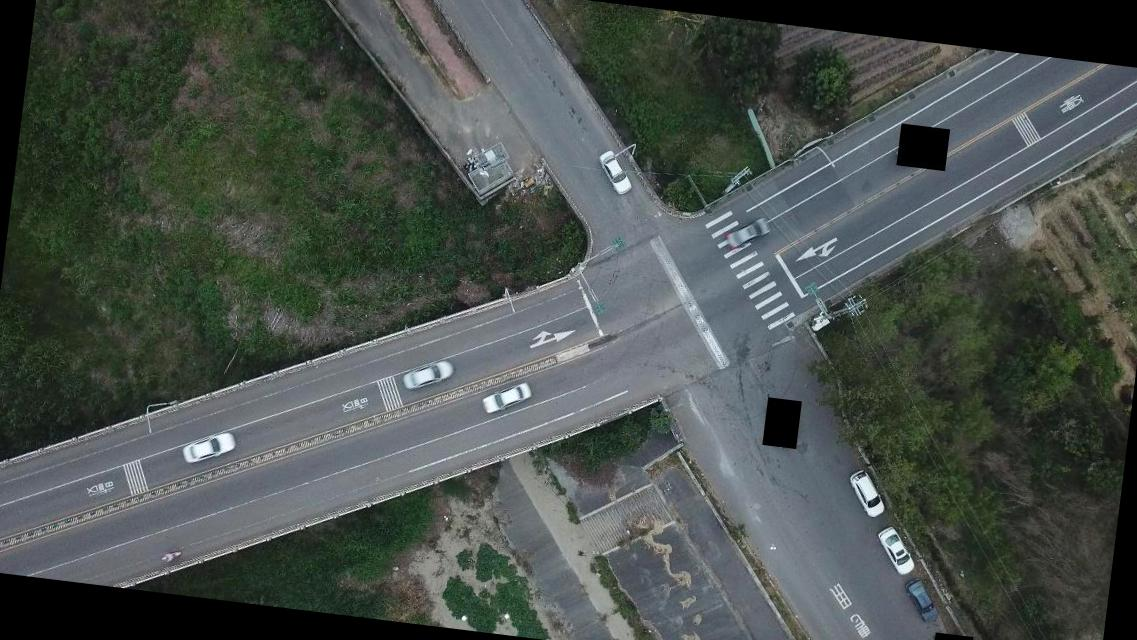vehicle: (178, 424, 238, 468), (872, 525, 922, 577), (844, 466, 890, 518), (400, 354, 454, 395), (593, 147, 636, 196), (479, 378, 532, 416), (723, 212, 772, 252), (901, 578, 942, 622)
